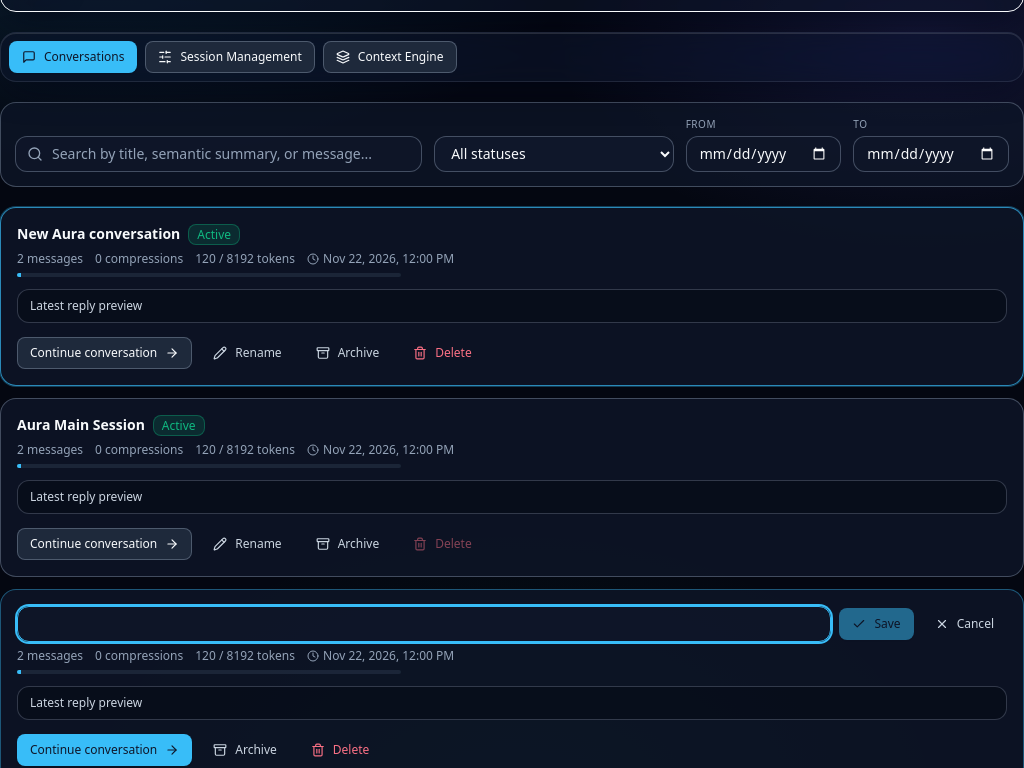
Scenario: SessionsCenterPage › supports creating, renaming (save, empty guard, Escape, Cancel), archiving/reactivating, and deleting sessions
The image size is (1024, 768).
Earlier steps of the test are not shown.
Later steps or results of the test are not shown.
(page scrolled)
Check: the button with test id "session-rename-save-s-work" is disabled, box [840,608,914,640]
Step 1. Submit the form with test id "session-rename-input-s-work", box [17,606,1007,642]
Step 2. Press Escape in the field with test id "session-rename-input-s-work", box [17,606,832,642]
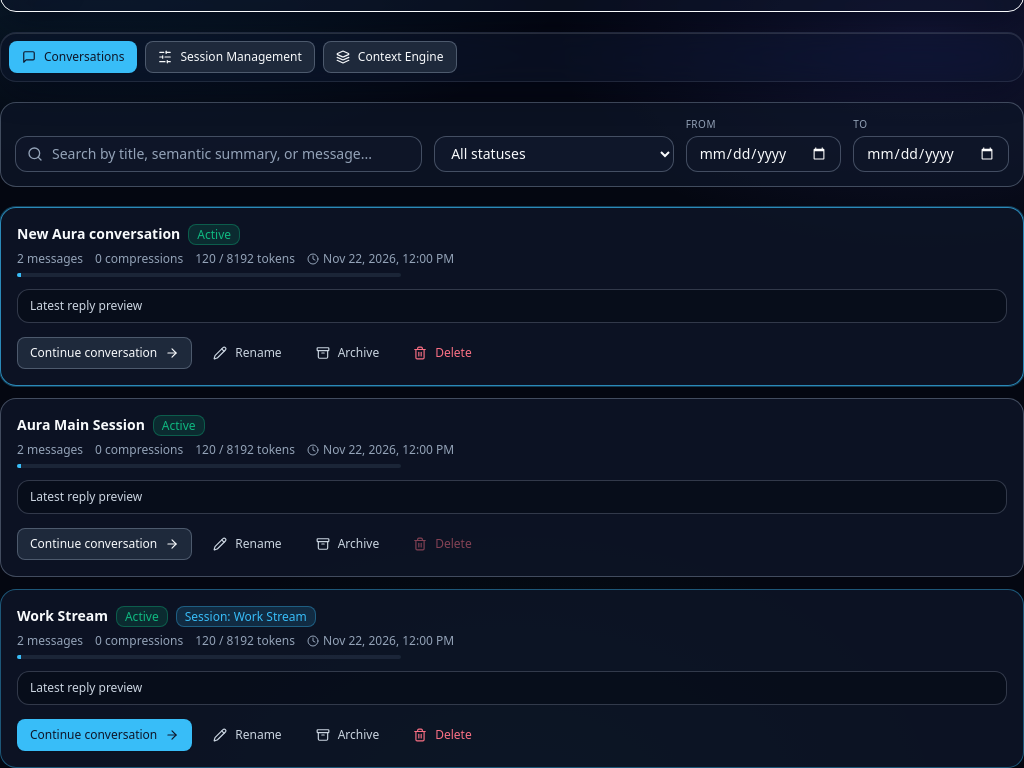
Check: the field with test id "session-rename-input-s-work" is gone
Step 3. Click the button with test id "session-rename-s-work" → (248, 734), box [200,718,295,750]
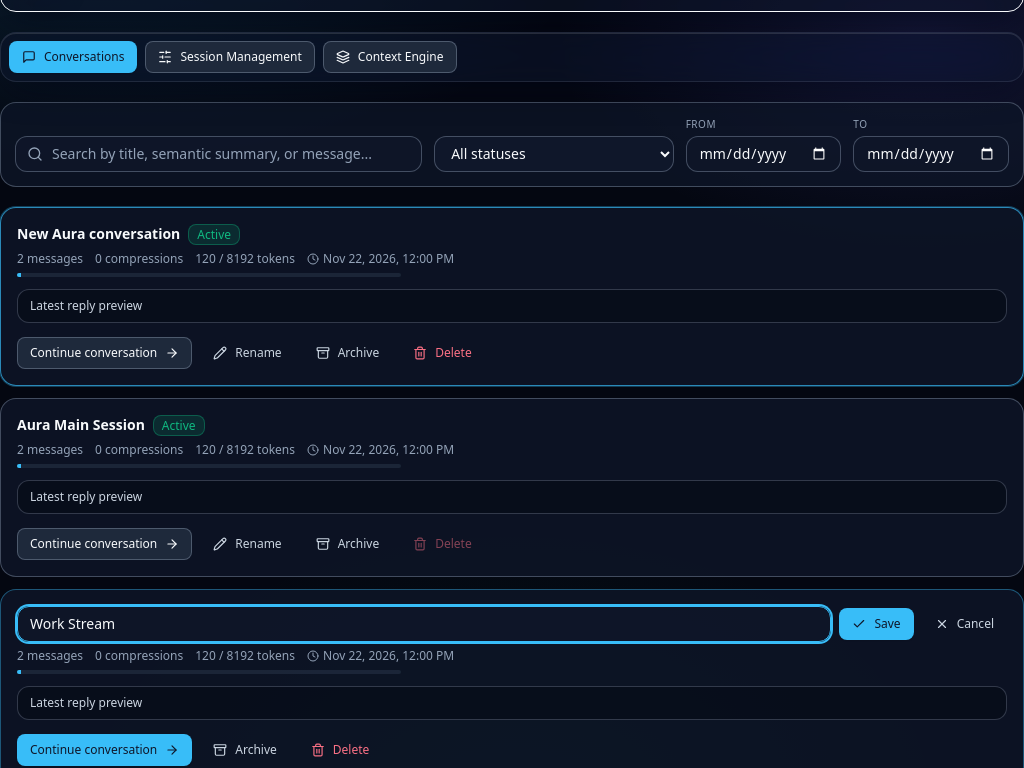
Step 4. Click the button with test id "session-rename-cancel-s-work" → (964, 624), box [922,608,1007,640]
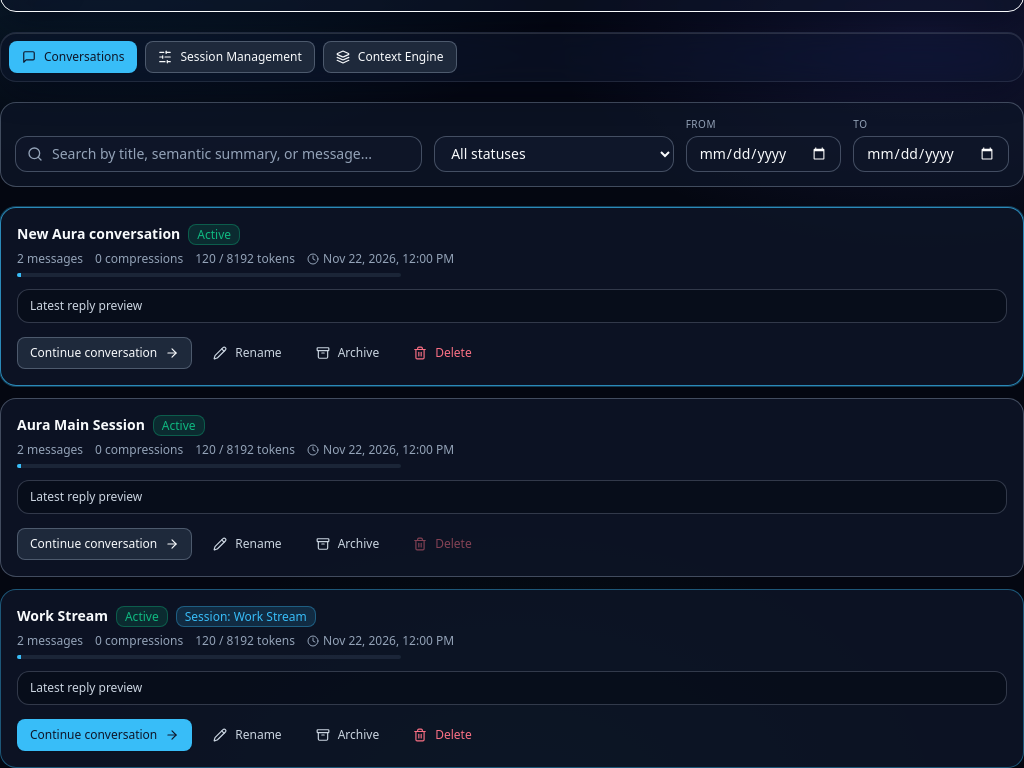
Check: the field with test id "session-rename-input-s-work" is gone
Step 5. Click the button with test id "session-rename-s-work" → (248, 734), box [200,718,295,750]
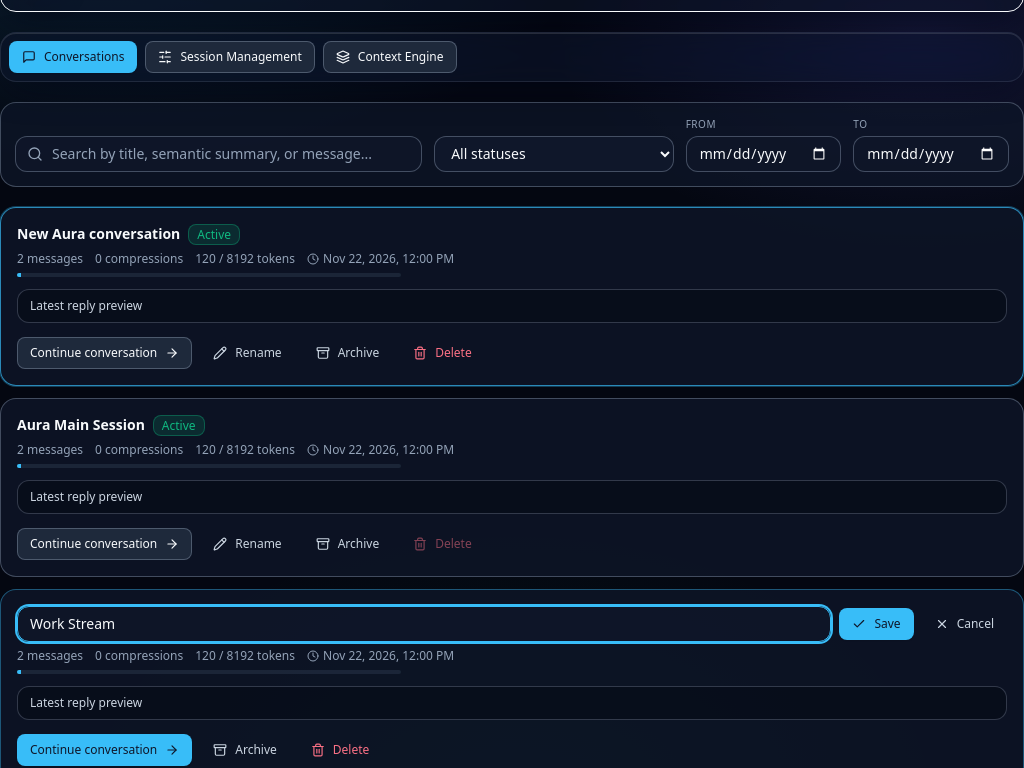
Step 6. Replace the text in the field with test id "session-rename-input-s-work" with "  Renamed Stream  " → (424, 624), box [17,606,832,642]
Step 7. Click the button with test id "session-rename-save-s-work" → (877, 624), box [840,608,914,640]
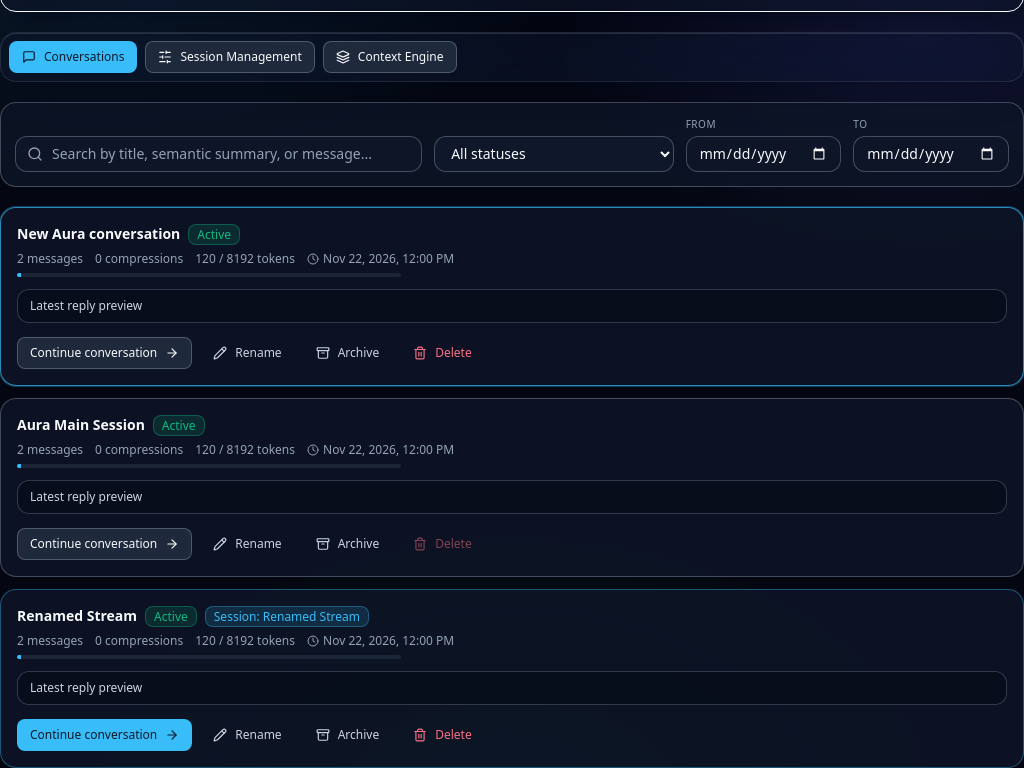
Check: the button "Renamed Stream" is shown, box [17,606,137,626]
Step 8. Click the button with test id "session-status-s-work" → (347, 734), box [303,718,392,750]
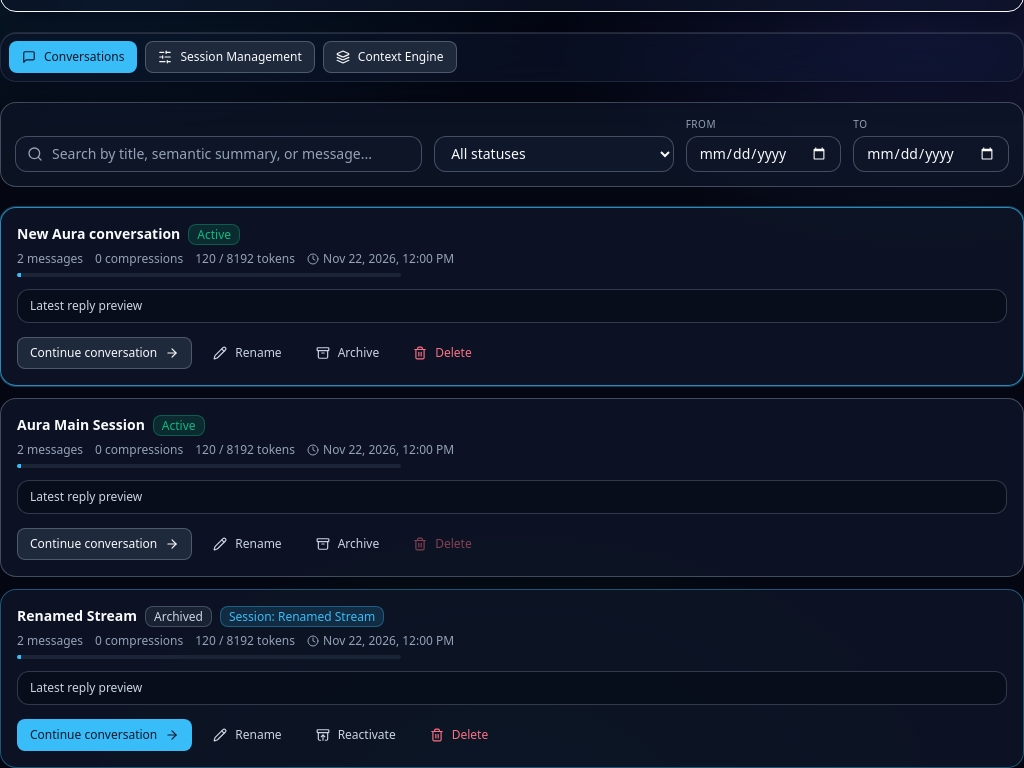
Check: the button "Reactivate" is shown, box [303,718,409,750]
